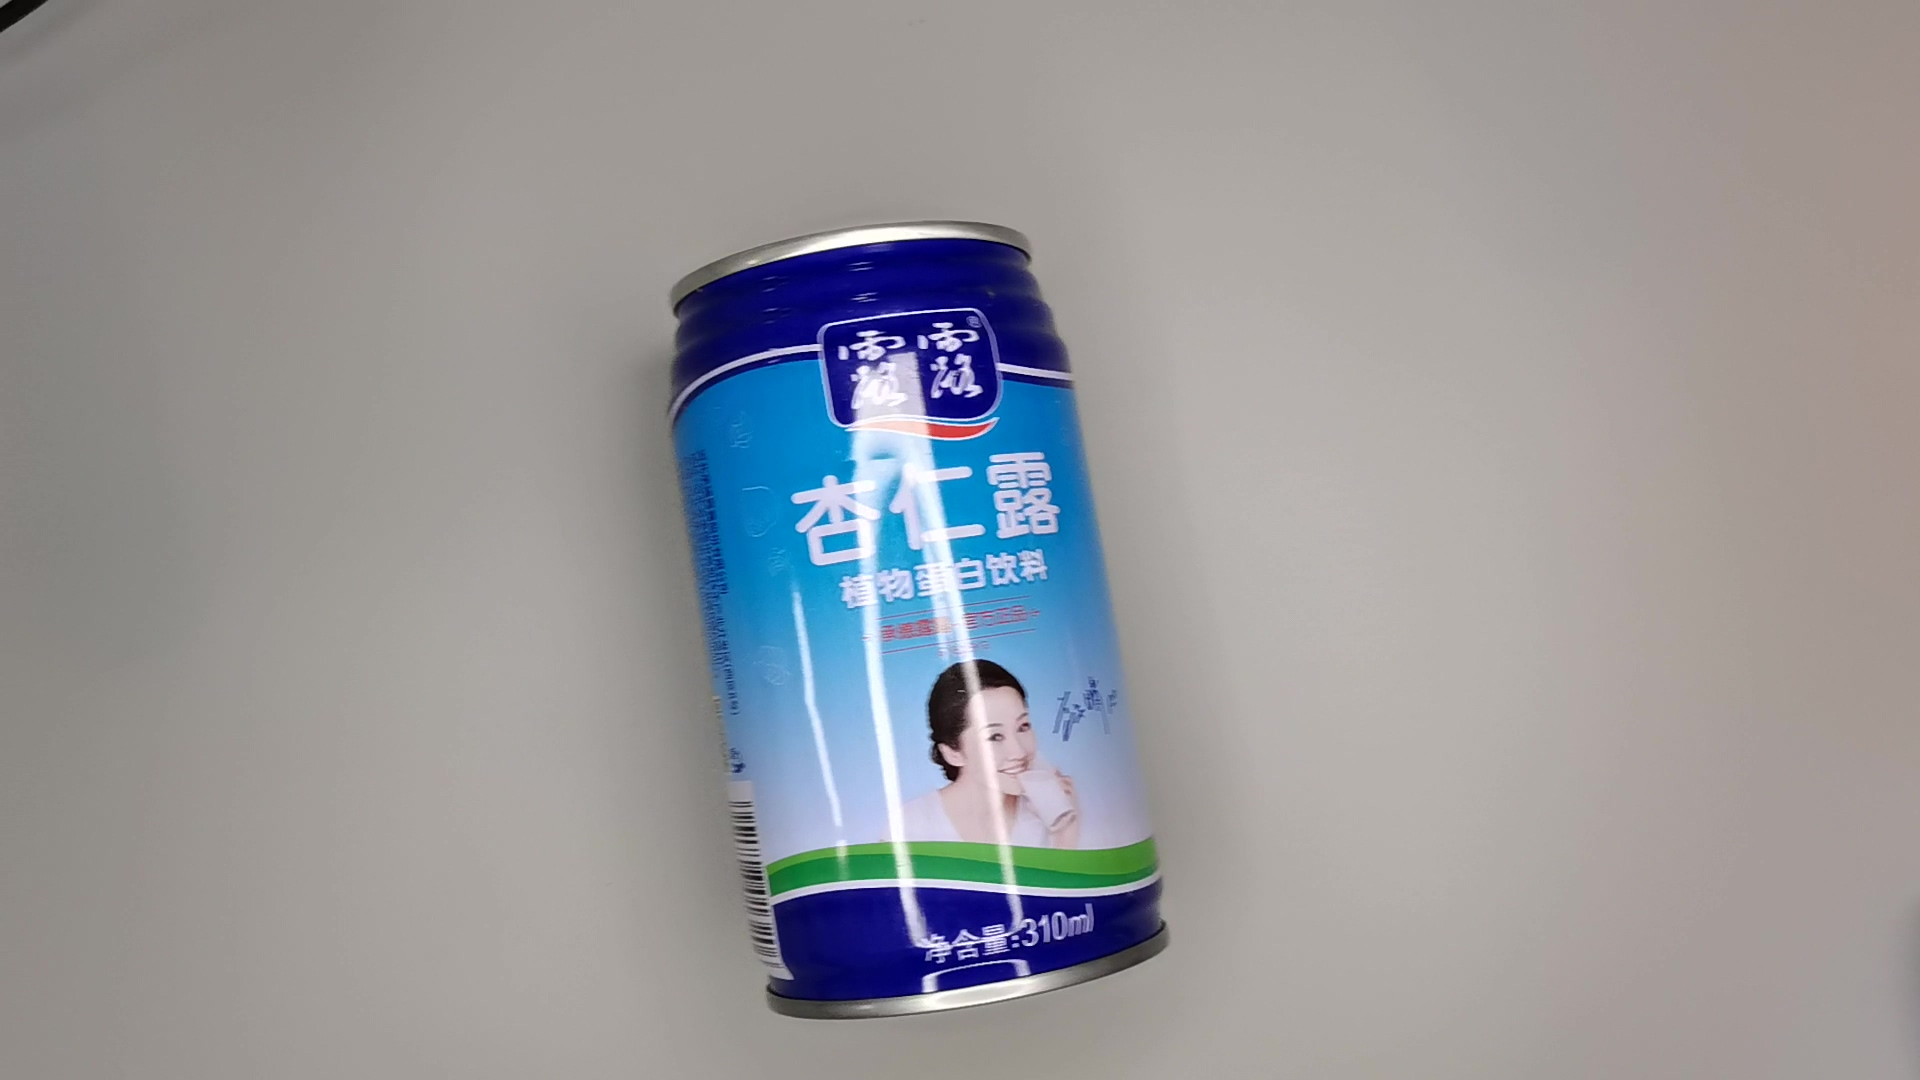can: (659, 206, 1188, 1033)
